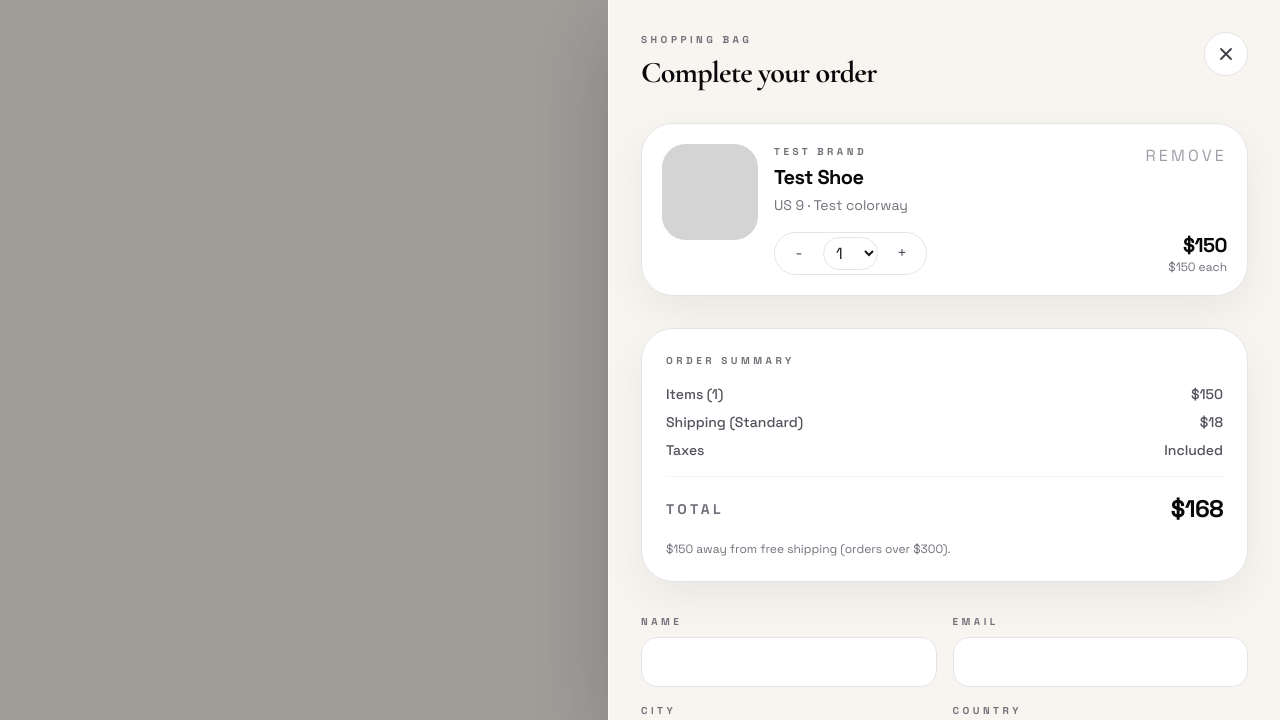
Test: CartDrawer › submits checkout through the self-contained local-preview order flow
Type "Step Five Tester" into the field labelled "Name" at (789, 662), box [641, 637, 936, 687]
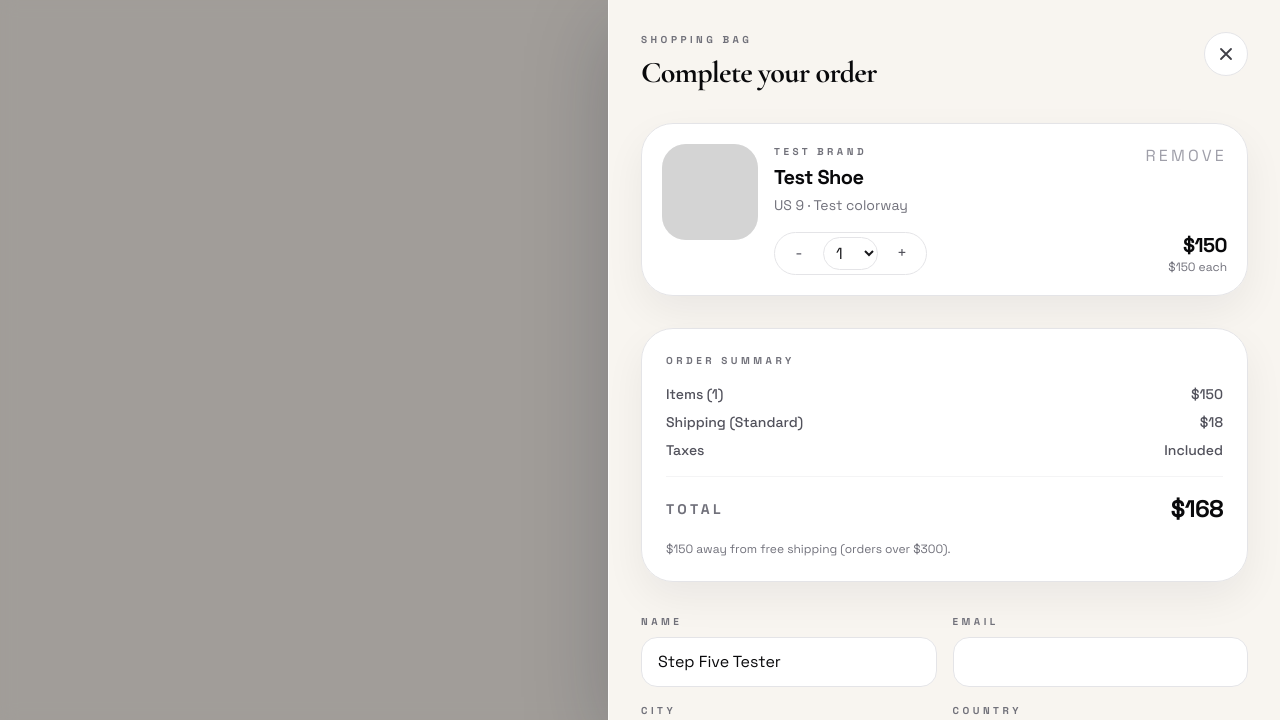
Type "step5@example.com" into the field labelled "Email" at (1100, 662), box [952, 637, 1248, 687]
(page scrolled)
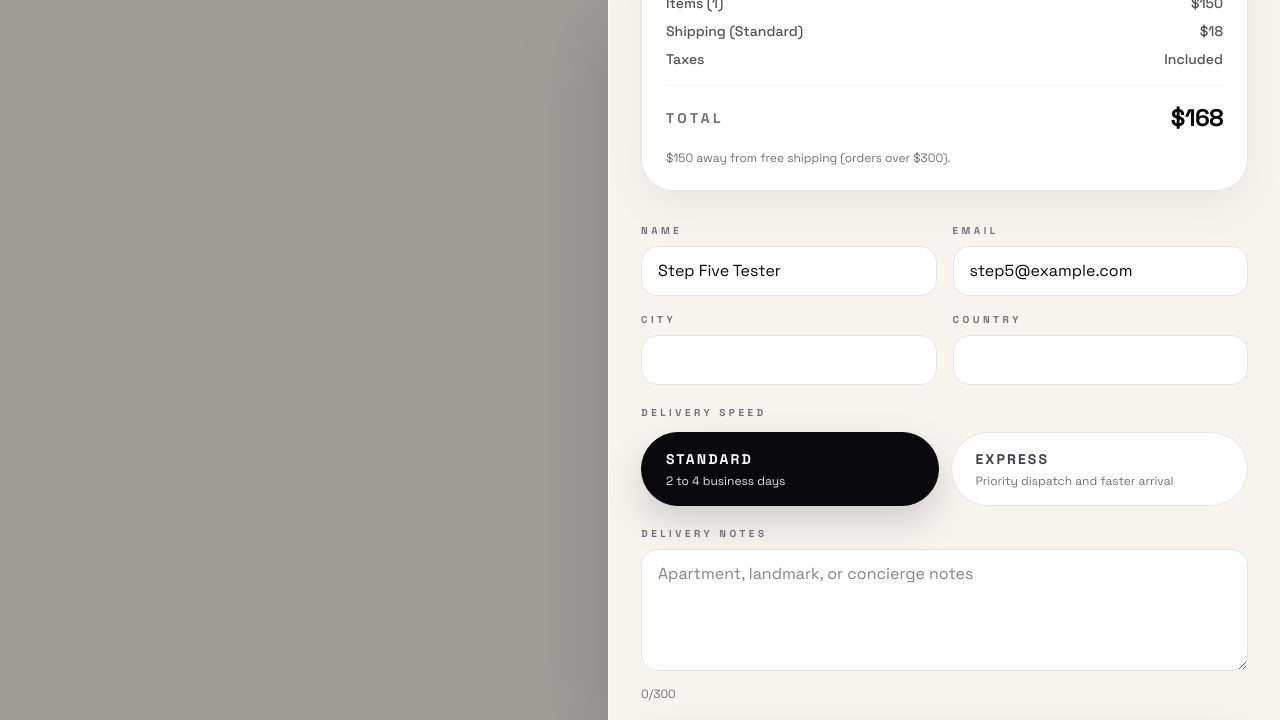
Type "Dhaka" into the field labelled "City" at (789, 360), box [641, 335, 936, 385]
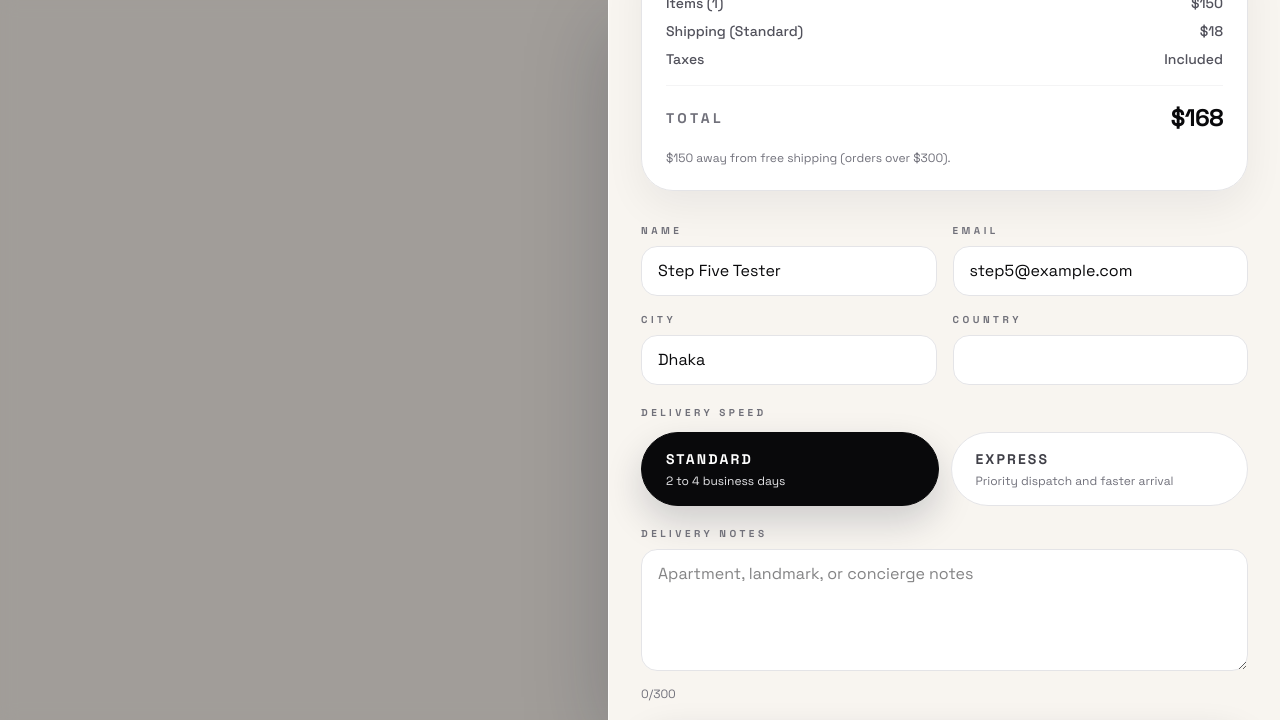
Type "Bangladesh" into the field labelled "Country" at (1100, 360), box [952, 335, 1248, 385]
(page scrolled)
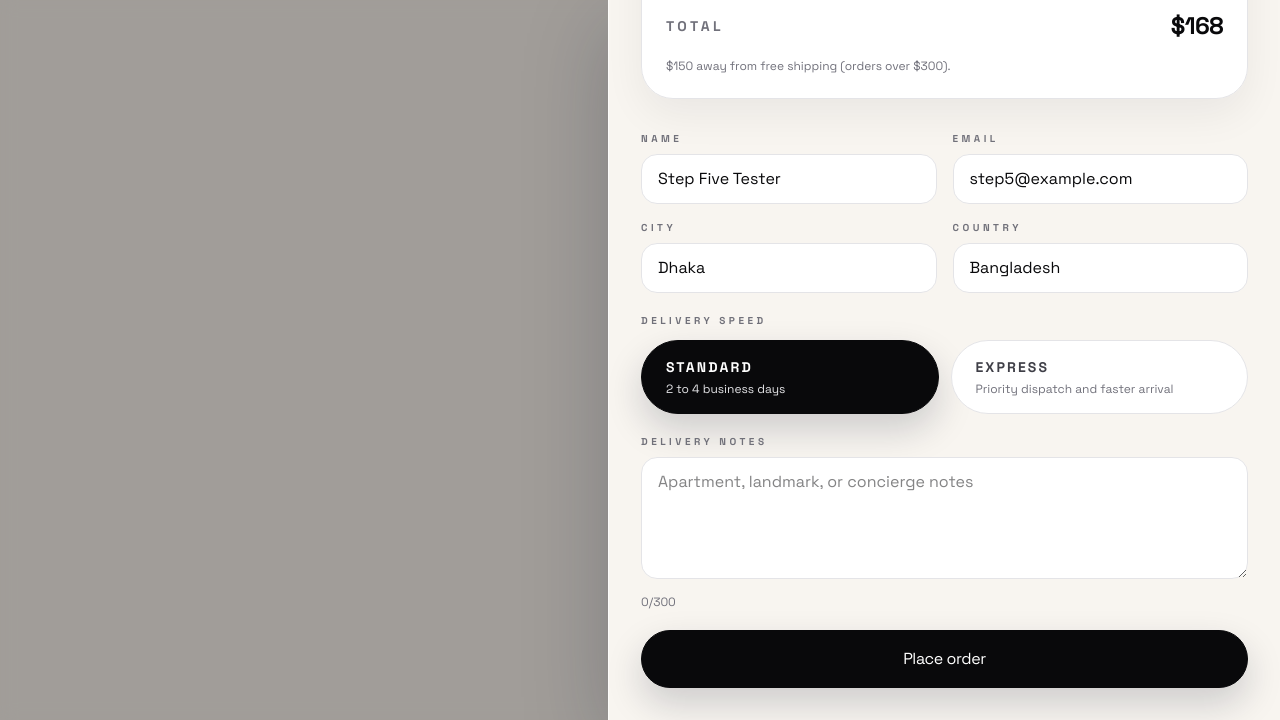
Click the button "Place order" at (944, 659), box [641, 630, 1248, 688]
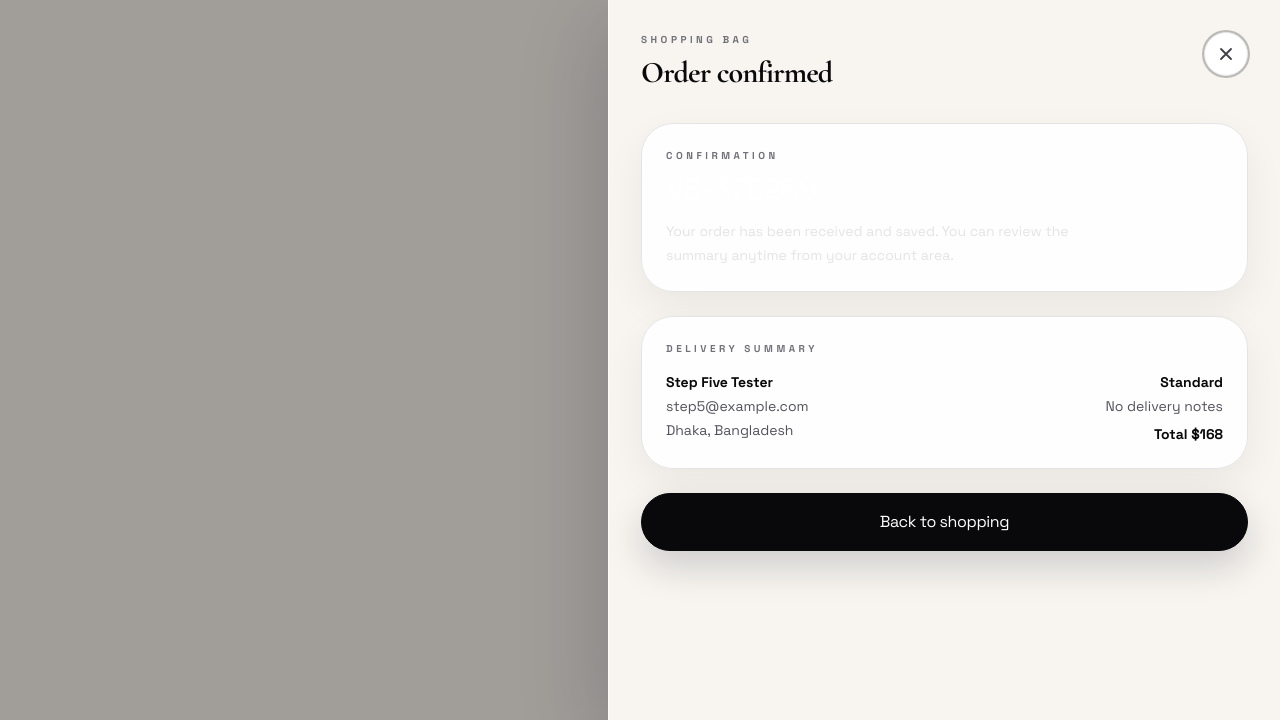
Check: the heading "Order confirmed" is shown, box [641, 55, 832, 91]
Check: the text "step5@example.com" is shown, box [666, 397, 809, 415]
